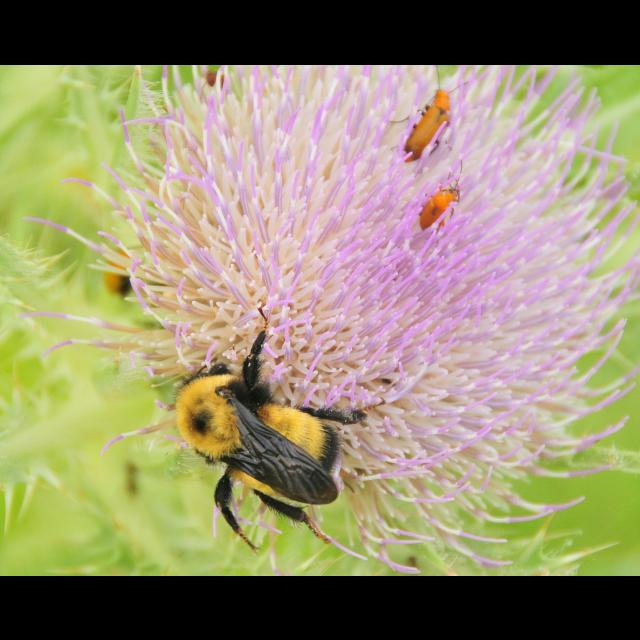Flower: (1, 64, 640, 576)
